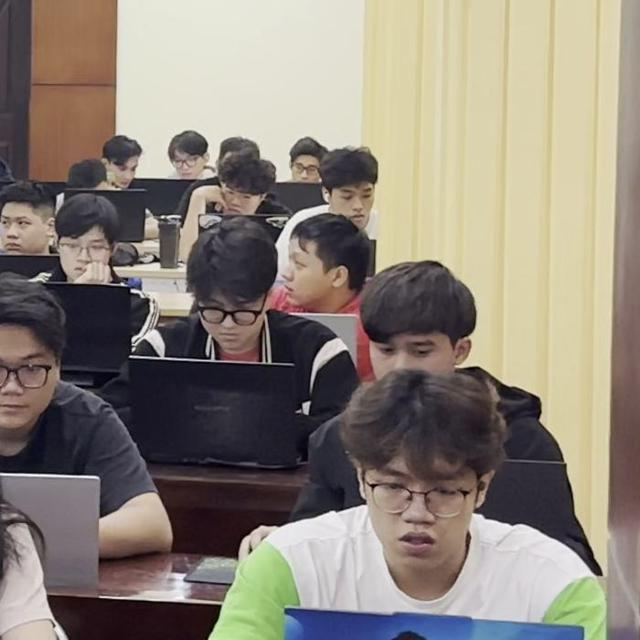Looking away: (347, 359, 502, 572), (368, 257, 475, 386), (0, 269, 74, 450), (191, 212, 277, 363), (278, 213, 360, 317), (52, 207, 122, 289), (1, 189, 62, 273), (325, 139, 374, 228), (99, 115, 141, 196), (165, 125, 211, 190), (221, 166, 268, 228), (291, 138, 325, 195)
